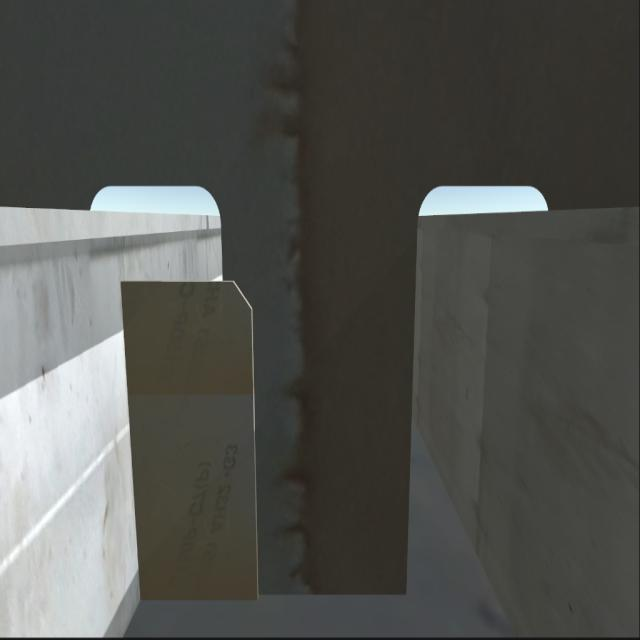fillet_yong_jeop_jang: (132, 572, 408, 612)
longi_yong_jeop_jang: (112, 272, 154, 612)
plate_CP03: (137, 276, 257, 602)
